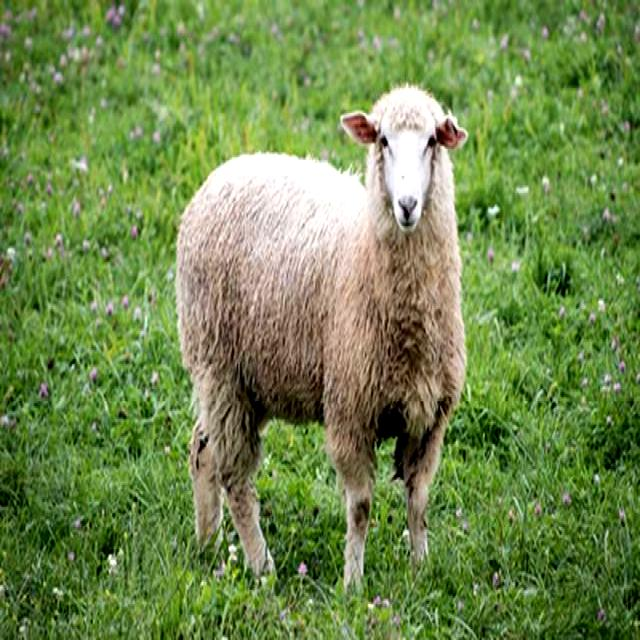sheep: (172, 90, 470, 592)
